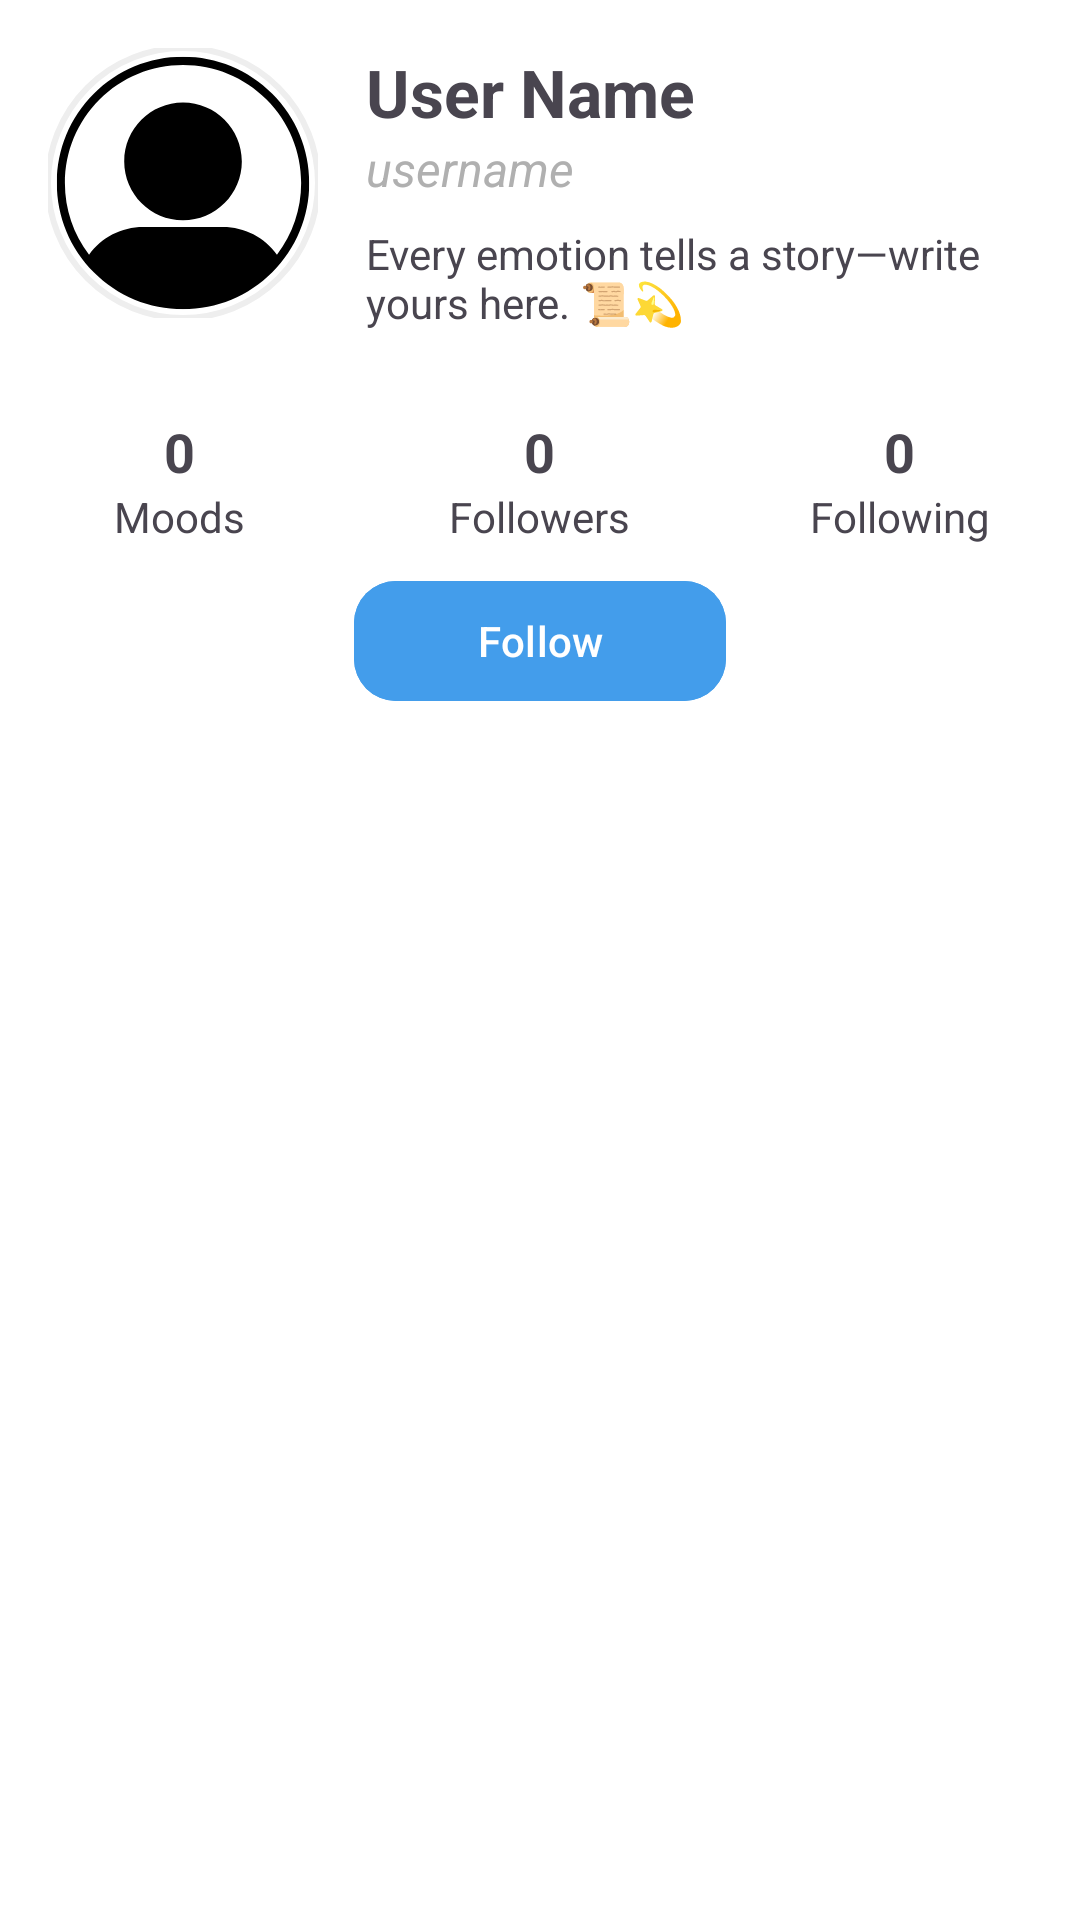

Icons on this 1080px×1920px Android screen, each with the point to tap as point (x, y):
profile: point (183, 183)
